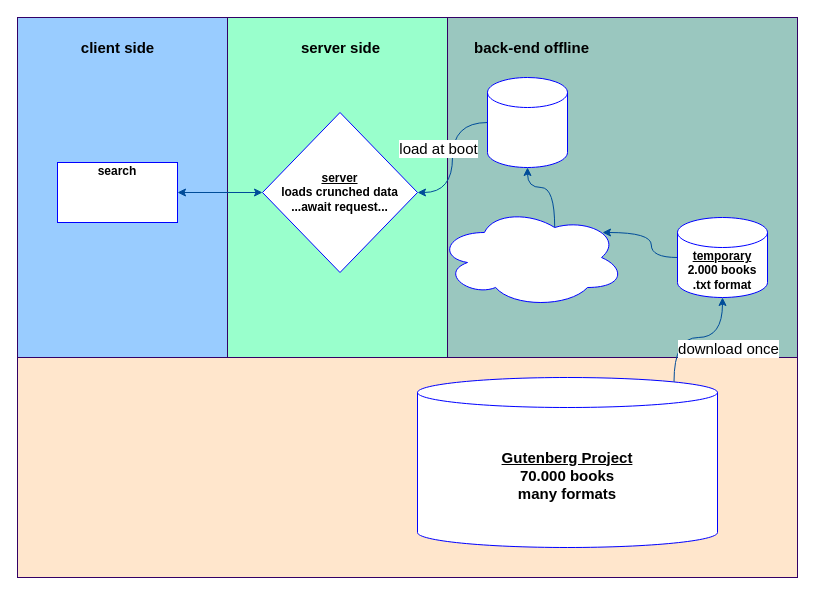
The diagram is 815 pixels wide and 595 high, and some of its shapes have lost their labels. The centre of each missing label's shape, as x and y in pixels:
Indexes & suggestions: point 527,122
offline work & scripts generate indexes generate suggestions: point 530,257
